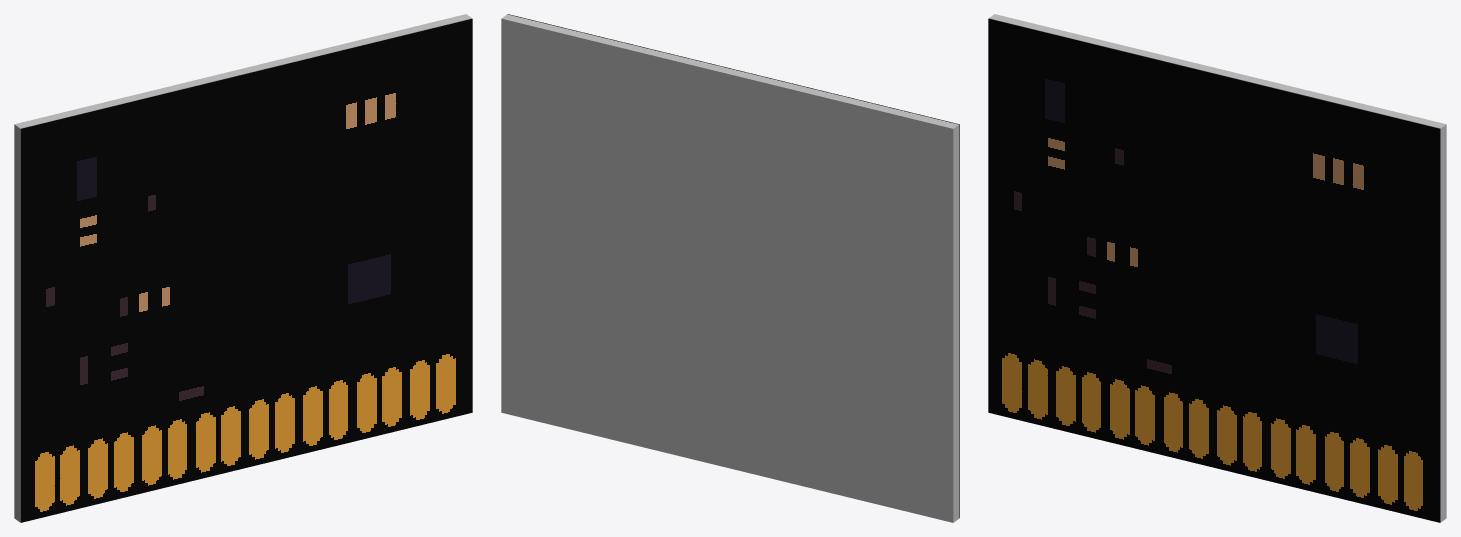
Rendered from chip_normal.glb.
The picture shows the model from 3 angles, left to right: view 1: azimuth 30°, elevation 25°; view 2: azimuth 150°, elevation 25°; view 3: azimuth 330°, elevation 25°; orthographic projection.
Parts seen in each view (by area): view 1: Cube; view 2: Cube; view 3: Cube.
Boxes of the visible parts, <box> form: Cube: <box>14,14,472,522</box>; Cube: <box>501,14,959,522</box>; Cube: <box>988,14,1446,522</box>.
Size of the model in its own units: 5.19 by 4.32 by 0.1253.
2 materials, 2 textured.
